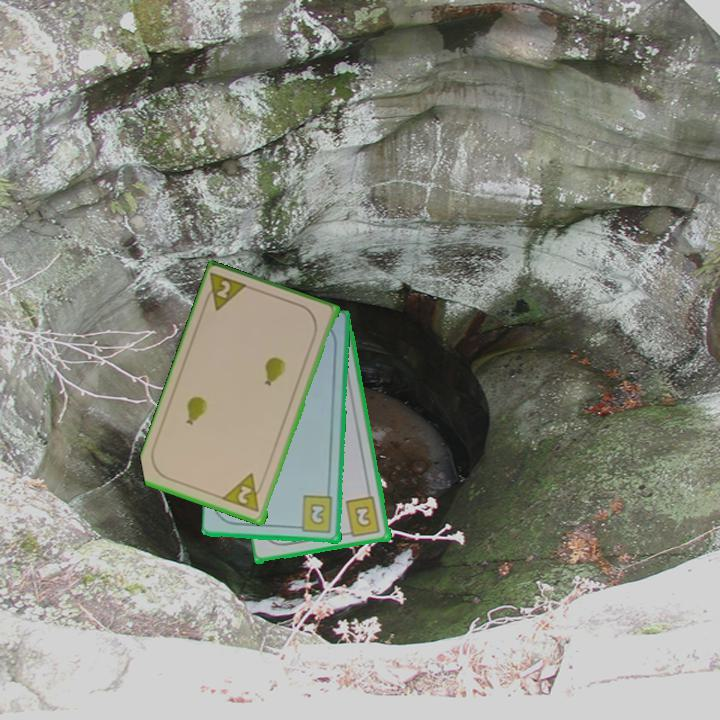2b: (341, 494, 383, 540), (292, 493, 335, 536)
2p: (200, 270, 252, 314), (234, 482, 255, 507)
